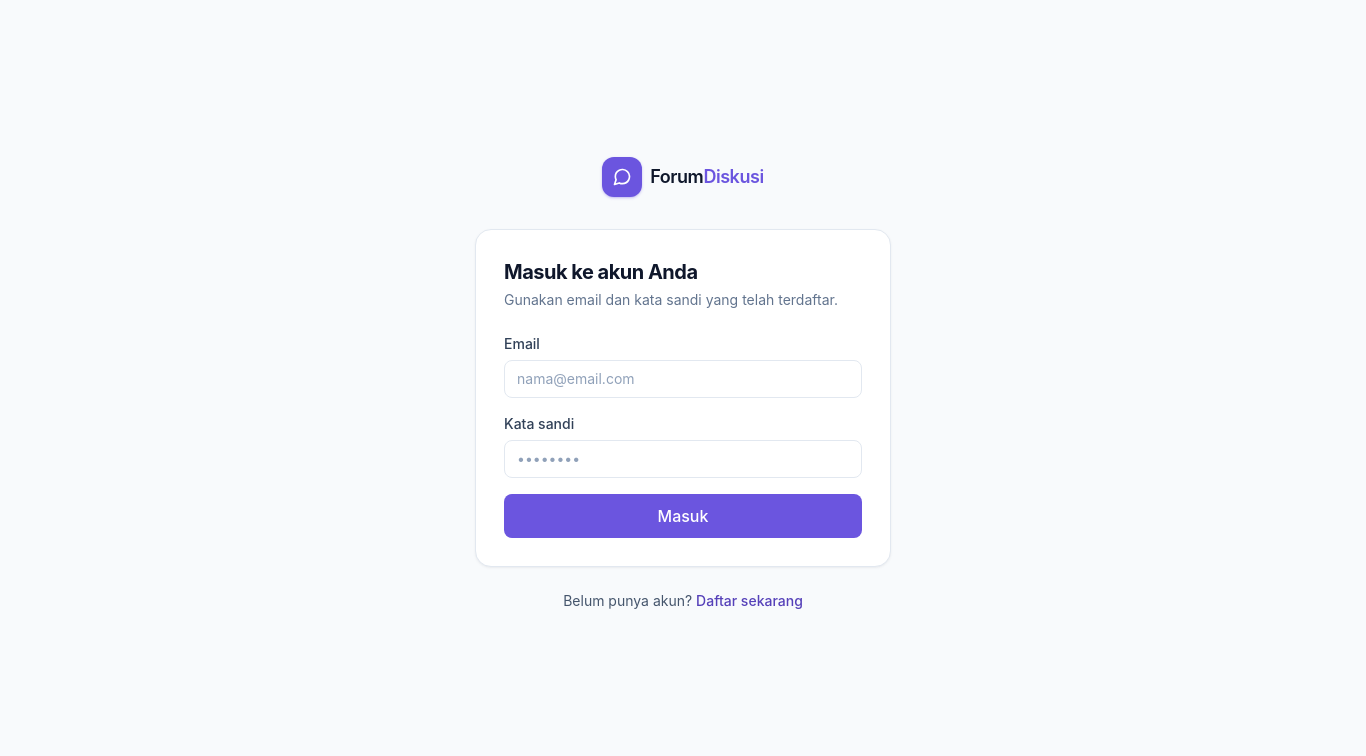
it: Alur login aplikasi › harus mengarahkan pengguna ke beranda ketika kredensial benar
Type "khairil@cypress.test" into the field with id "email" at point(683, 379), box [504,360,862,398]
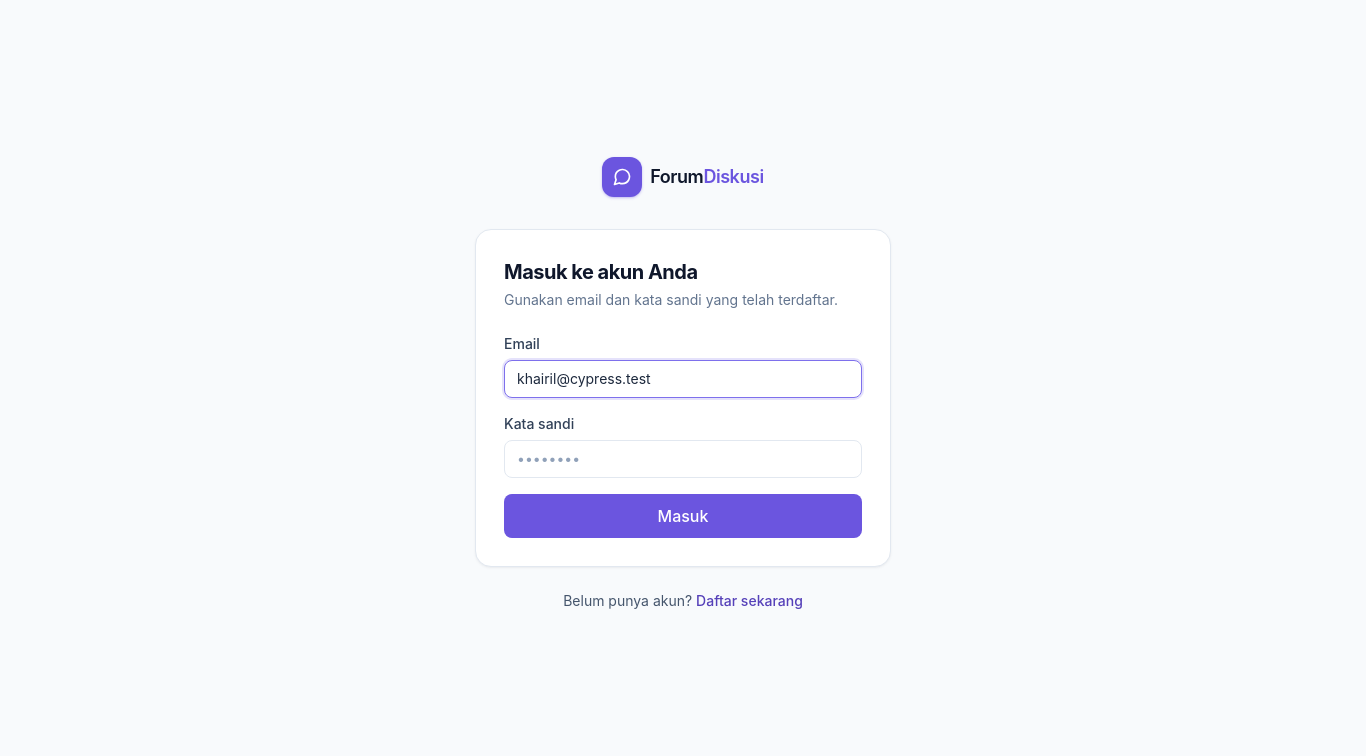
Type "rahasia123" into the password field labelled "Kata sandi" at point(683, 459), box [504,440,862,478]
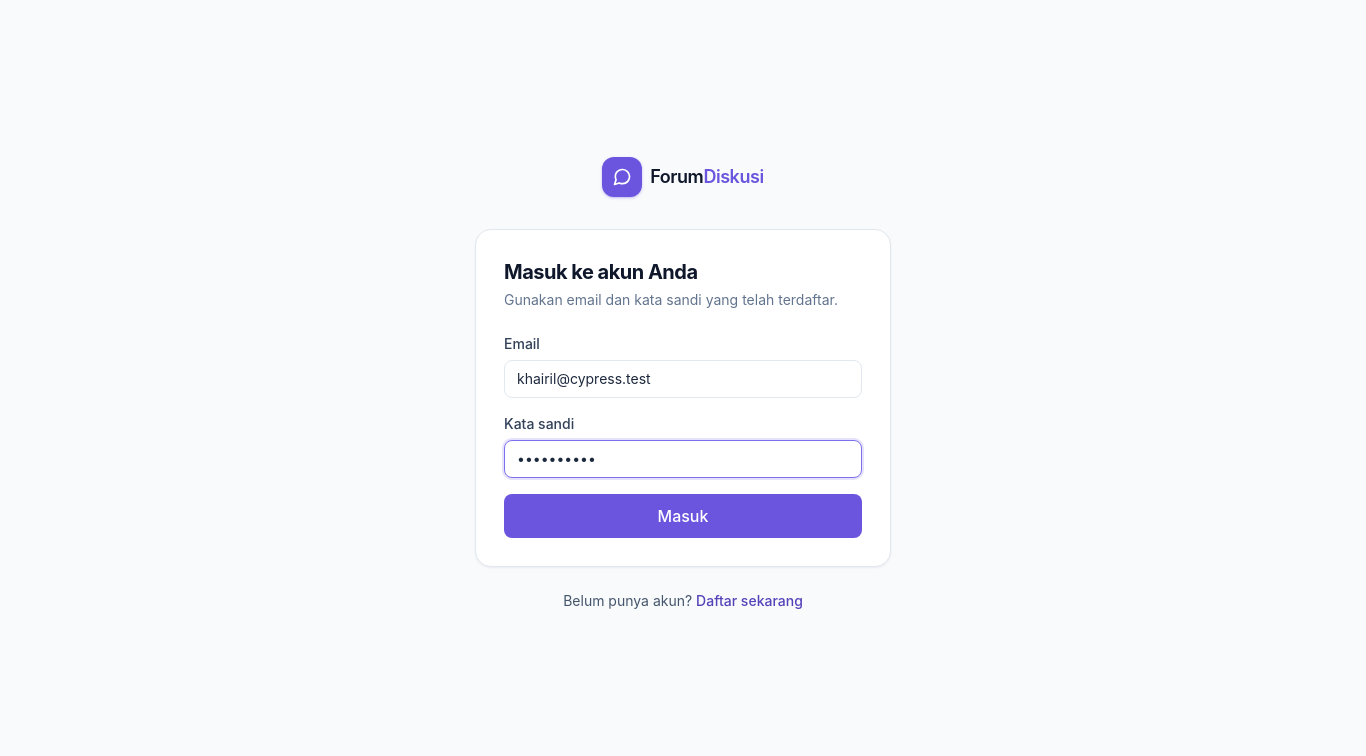
Click the submit button at point(683, 516), box [504,494,862,538]
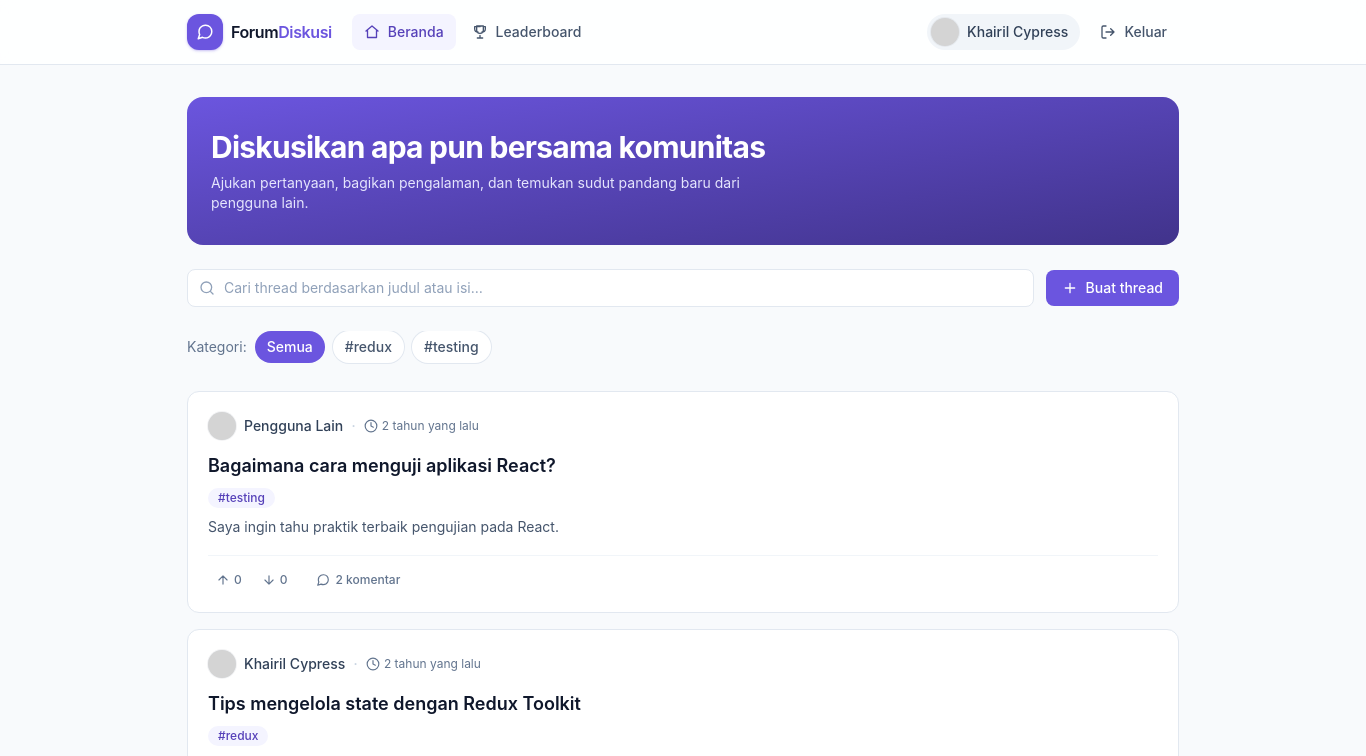
Now the text "Khairil Cypress" in the row of "Leaderboard" is shown, box [967,23,1068,40]
Now the button with aria-label "Keluar" is shown, box [1088,16,1179,48]
Now the link "Bagaimana cara menguji aplikasi React?" is shown, box [208,455,556,476]
